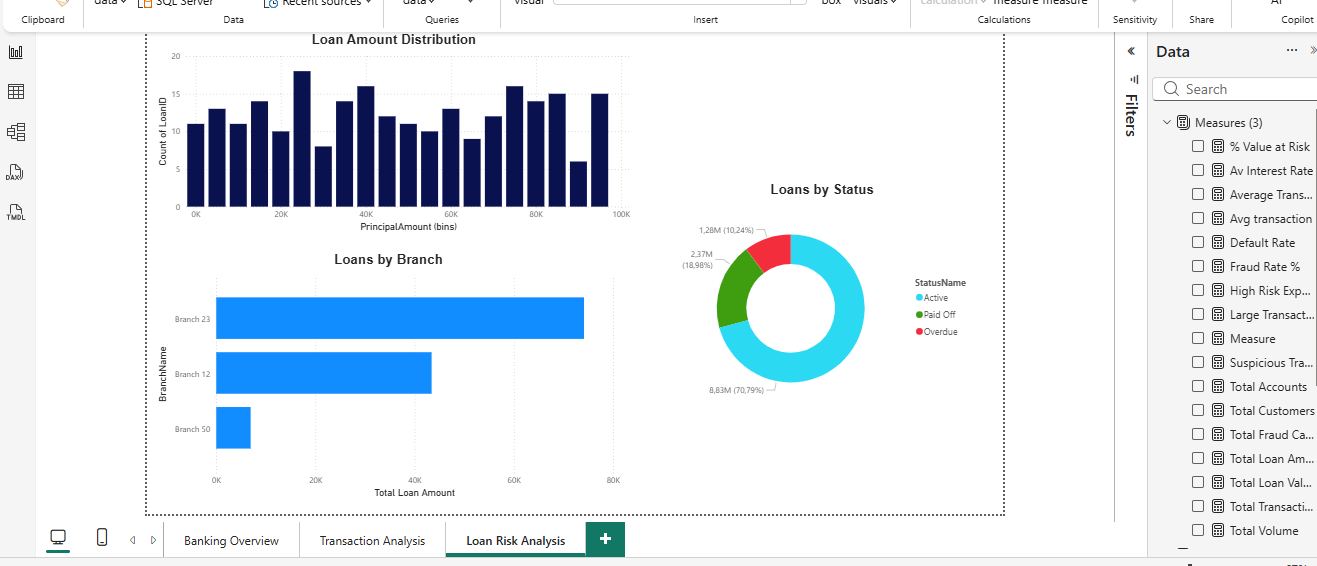

What the dashboard file says about the page in this screenshot:
{"tool":"powerbi","page":{"name":"Loan Risk Analysis","canvas":[1280,720],"ordinal":2},"visuals":[{"type":"columnChart","title":"Loan Amount Distribution","fields":{"Category":["final_loan_analysis.PrincipalAmount (bins)"],"Y":["CountNonNull(final_loan_analysis.LoanID)"]},"box":[10.7,0,716.9,303.9],"z":0},{"type":"donutChart","title":"Loans by Status","fields":{"Category":["loan_statuses.StatusName"],"Y":["Measures (3).Total Loan Amount"]},"box":[770.5,223.5,475.5,355.8],"z":1},{"type":"barChart","title":"Loans by Branch","fields":{"Category":["branches.BranchName"],"Y":["Measures (3).Total Loan Amount"]},"box":[10.7,328.9,700.8,371.8],"z":2}]}

Visuals, with their boxes on the page's 1280x720 design canvas (x1, y1, x2, y2). These are canvas units, not pixel positions in the 1317x566 screenshot, which may show the page scaled, cropped or inside an application window:
"Loan Amount Distribution" columnChart: <bbox>11, 0, 728, 304</bbox>
"Loans by Status" donutChart: <bbox>770, 224, 1246, 579</bbox>
"Loans by Branch" barChart: <bbox>11, 329, 712, 701</bbox>
